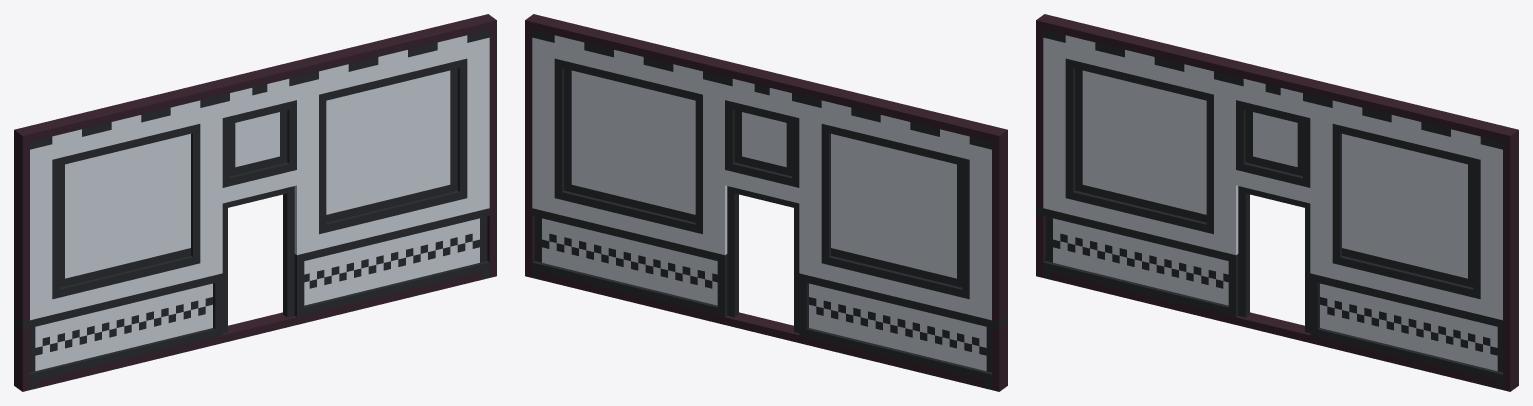
File: Panel Wall (64x32x4) With Door (8x12).fbx
The picture shows the model from 3 angles, left to right: view 1: azimuth 30°, elevation 25°; view 2: azimuth 150°, elevation 25°; view 3: azimuth 330°, elevation 25°; orthographic projection.
Parts seen in each view (by area): view 1: generated; view 2: generated; view 3: generated.
Boxes of the visible parts, x1,y1,x2,y2 form: generated: (14,14,496,391); generated: (525,14,1007,391); generated: (1036,14,1518,391).
Size of the model in its own units: 2560 by 1320 by 80.
